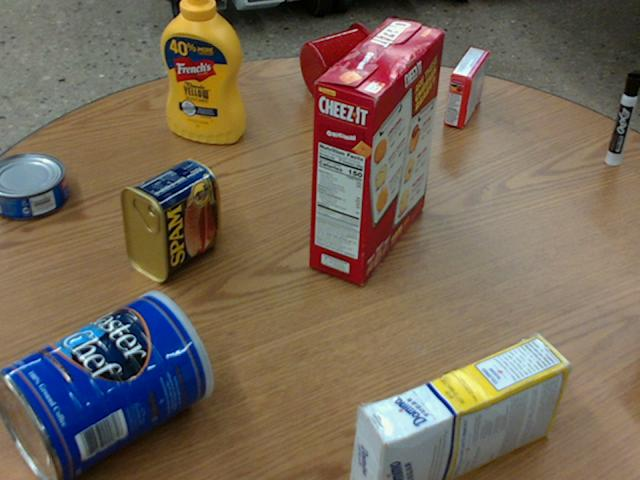cracker_box: (308, 18, 440, 284)
gelatin_box: (444, 47, 490, 128)
large_marker: (605, 71, 639, 164)
master_chef_can: (0, 290, 211, 479)
mug: (298, 21, 381, 100)
mustard_bottle: (159, 0, 243, 142)
potted_meat_can: (118, 157, 217, 281)
sugar_box: (348, 333, 568, 479)
tuna_fish_can: (0, 152, 67, 218)
